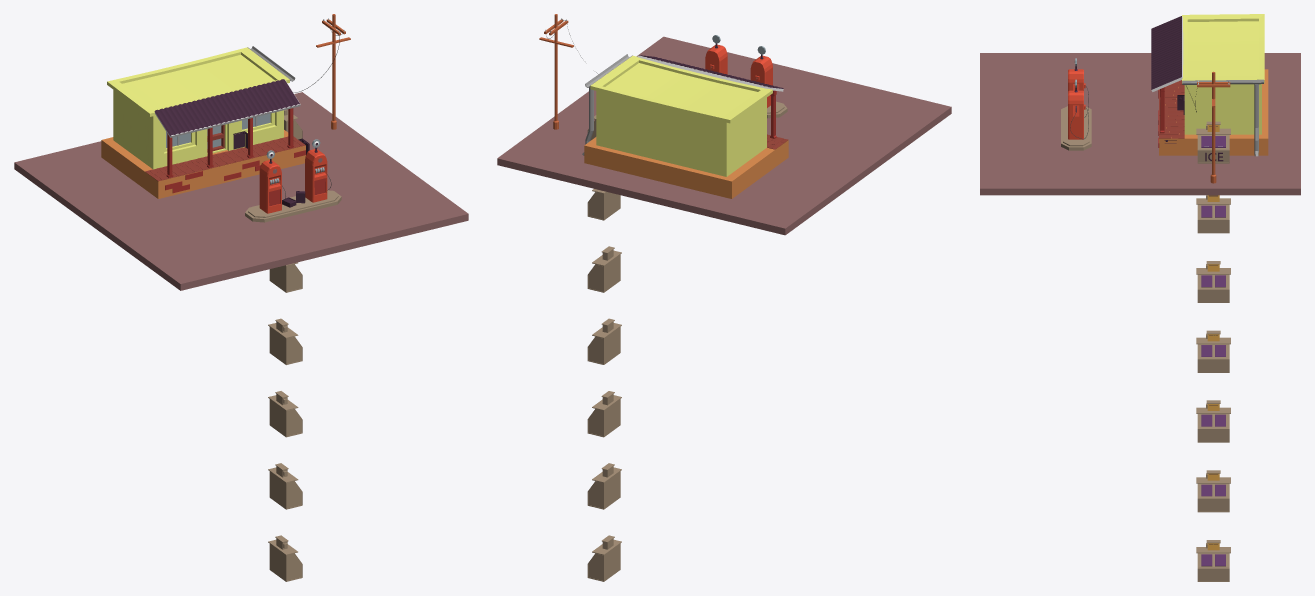
File: fuel-station.fbx
3 renders of one model, left to right at view 1: azimuth 30°, elevation 25°; view 2: azimuth 150°, elevation 25°; view 3: azimuth 270°, elevation 25°, orthographic. The views are drawn at different scales.
Parts seen in each view (by area): view 1: Plane, Cube.014, Vert.004, Cube.012, Cube.006, Cube.021, Plane.001, Cube.032, Cube.030; view 2: Plane, Cube.014, Vert.004, Cube.030, Cube.006, Cube.021; view 3: Plane, Cube.014, Vert.004, Cube.012, Cube.021, Plane.001, Cube.030.
Boxes of the visible parts, x1=… form: Plane: x1=14, y1=92, x2=468, y2=290; Cube.014: x1=101, y1=47, x2=305, y2=198; Vert.004: x1=268, y1=109, x2=302, y2=581; Cube.012: x1=154, y1=79, x2=299, y2=135; Cube.006: x1=259, y1=150, x2=281, y2=213; Cube.021: x1=305, y1=139, x2=327, y2=202; Plane.001: x1=245, y1=190, x2=341, y2=222; Cube.032: x1=166, y1=108, x2=293, y2=177; Cube.030: x1=316, y1=14, x2=350, y2=129; Plane: x1=497, y1=36, x2=951, y2=235; Cube.014: x1=584, y1=55, x2=788, y2=198; Vert.004: x1=587, y1=115, x2=621, y2=581; Cube.030: x1=539, y1=14, x2=573, y2=129; Cube.006: x1=750, y1=46, x2=772, y2=107; Cube.021: x1=705, y1=35, x2=727, y2=74; Plane: x1=980, y1=53, x2=1300, y2=195; Cube.014: x1=1151, y1=14, x2=1268, y2=155; Vert.004: x1=1196, y1=121, x2=1230, y2=581; Cube.012: x1=1151, y1=16, x2=1181, y2=89; Cube.021: x1=1068, y1=79, x2=1085, y2=139; Plane.001: x1=1061, y1=106, x2=1091, y2=150; Cube.030: x1=1197, y1=71, x2=1230, y2=183.
Size of the model in its own units: 202 by 363 by 200.
